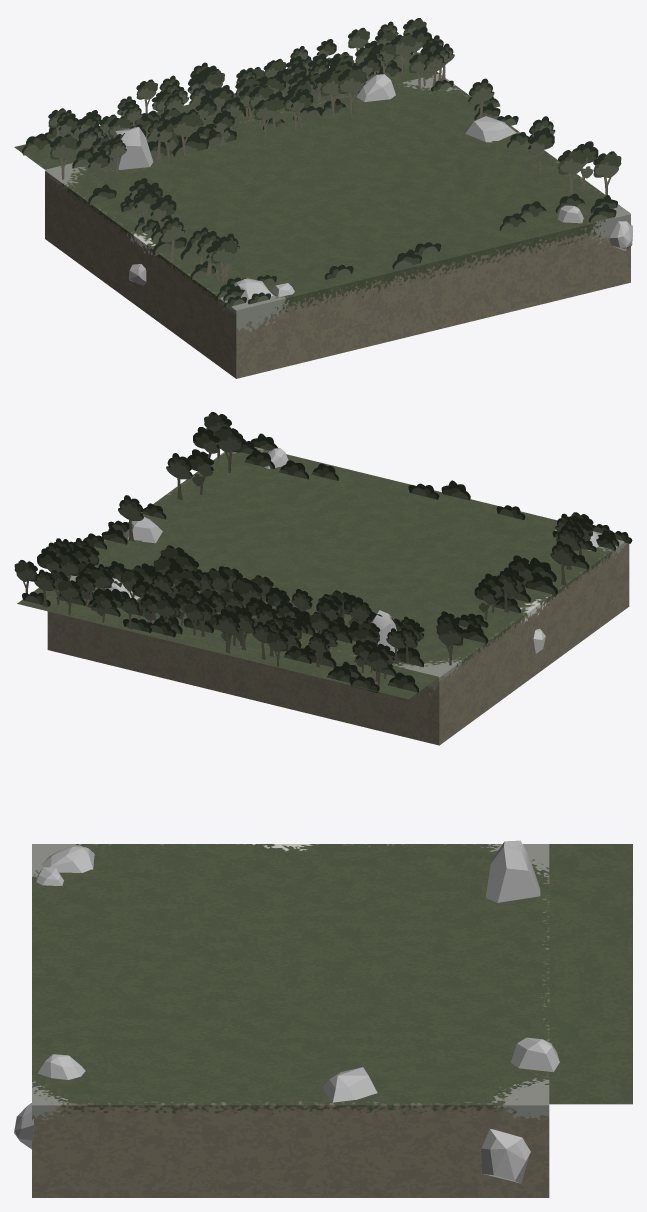
File: BackgroundEnvironment.fbx
3 renders of one model, top to bottom at view 1: azimuth 30°, elevation 25°; view 2: azimuth 150°, elevation 25°; view 3: azimuth 270°, elevation 25°, orthographic. The views are drawn at different scales.
Parts seen in each view (by area): view 1: Plane.001, Plane.004, Stone2.001, Stone1.002, Stone3.004, TreeBig2.015, TreeBig2.004, TreeBig2.003, TreeBig1.016, TreeBig2.002, TreeBig2.001, TreeBig2.008 (+5 smaller); view 2: Plane.001, Plane.004, TreeBig2.004, TreeBig1.016, TreeBig2.002, Stone1.002, TreeBig1.018, TreeBig1.020, TreeBig1.002, TreeBig1.017, Stone2.001; view 3: Plane.001, Plane.004, Stone2.001, Stone1.004, Stone1.002, Stone3.004, Stone3, Stone3.002, Stone3.003.
Boxes of the visible parts, <box> form: Plane.001: <box>45,97,630,378</box>; Plane.004: <box>14,54,630,309</box>; Stone2.001: <box>112,127,153,169</box>; Stone1.002: <box>465,116,516,142</box>; Stone3.004: <box>356,74,395,101</box>; TreeBig2.015: <box>338,67,366,114</box>; TreeBig2.004: <box>558,148,586,195</box>; TreeBig2.003: <box>593,151,621,195</box>; TreeBig1.016: <box>527,127,554,173</box>; TreeBig2.002: <box>50,134,77,179</box>; TreeBig2.001: <box>210,238,237,282</box>; TreeBig2.008: <box>171,112,197,155</box>; Plane.001: <box>47,466,629,745</box>; Plane.004: <box>17,447,624,699</box>; TreeBig2.004: <box>215,426,242,472</box>; TreeBig1.016: <box>187,449,213,494</box>; TreeBig2.002: <box>436,620,463,665</box>; Stone1.002: <box>125,517,162,543</box>; TreeBig1.018: <box>166,453,192,500</box>; TreeBig1.020: <box>118,495,143,541</box>; TreeBig1.002: <box>550,541,575,585</box>; TreeBig1.017: <box>193,427,219,458</box>; Stone2.001: <box>370,610,397,656</box>; Plane.001: <box>32,864,549,1197</box>; Plane.004: <box>32,844,632,1104</box>; Stone2.001: <box>485,840,540,902</box>; Stone1.004: <box>481,1129,530,1183</box>; Stone1.002: <box>322,1067,377,1102</box>; Stone3.004: <box>511,1037,559,1071</box>; Stone3: <box>41,845,94,872</box>; Stone3.002: <box>37,1054,85,1079</box>; Stone3.003: <box>14,1103,33,1149</box>.
Size of the model in its own units: 5498 by 1470 by 5181.
Materials: 8 (7 with a texture image).
